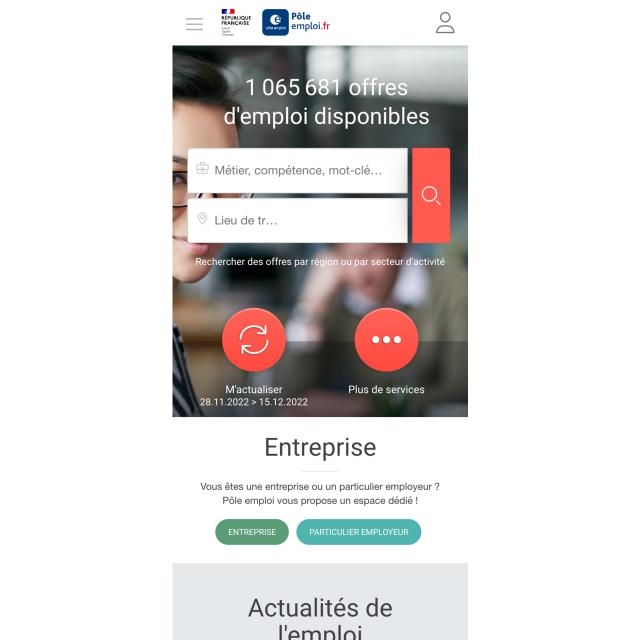input: (187, 148, 408, 195), (188, 199, 408, 244)
logo: (218, 1, 338, 44)
navigation: (184, 16, 207, 34)
